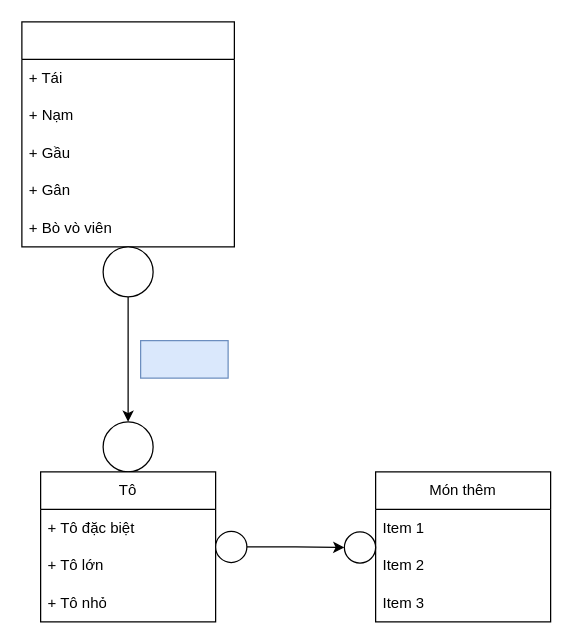
Some shapes in this 573 by 644 pixel diagram are drawn without their labels. The box of each missing label's shape, as (x1, y1, x2, y2) in pixels:
Abstracts: (139, 339, 228, 378)
Phở: (21, 21, 234, 247)
